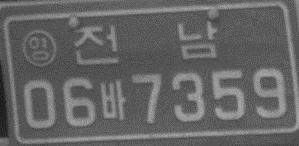0: (23, 79, 57, 128)
3: (171, 72, 206, 124)
5: (211, 70, 245, 121)
6: (61, 78, 96, 128)
7: (130, 72, 163, 125)
9: (252, 67, 287, 119)
바: (99, 79, 128, 123)
영: (21, 29, 58, 68)
전남_D: (72, 20, 217, 65)
